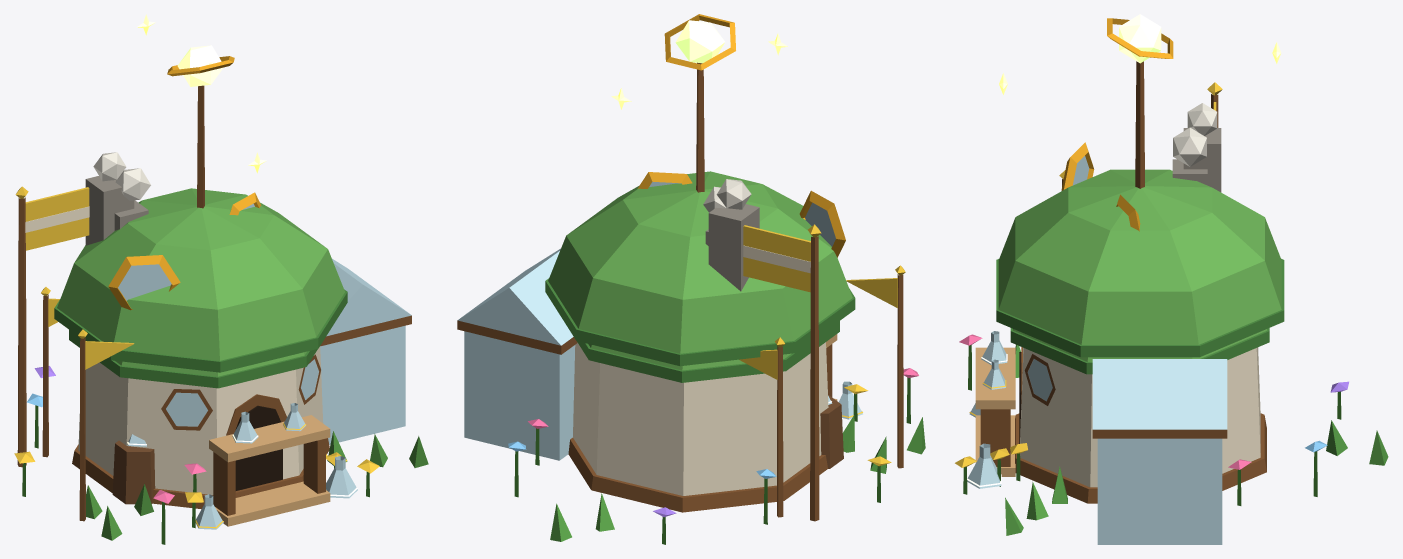
File: pollen-lab.glb
3 views of the same model, side by side, from view 1: azimuth 30°, elevation 25°; view 2: azimuth 150°, elevation 25°; view 3: azimuth 270°, elevation 25° (orthographic). The views are drawn at different scales.
Visible parts, largest first — view 1: lv3, lv2, lv1; view 2: lv3, lv2, lv1; view 3: lv3, lv2, lv1.
Boxes of the visible parts, box(x1,y1,x2,y2) form: lv3: box(14, 14, 428, 544); lv2: box(27, 168, 387, 528); lv1: box(112, 431, 347, 515); lv3: box(457, 14, 925, 544); lv2: box(528, 172, 886, 531); lv1: box(820, 395, 854, 468); lv3: box(955, 14, 1388, 544); lv2: box(975, 127, 1347, 520); lv1: box(1010, 443, 1067, 503).
Bounding box in the file's own units: 1.8 × 1.92 × 1.74.
